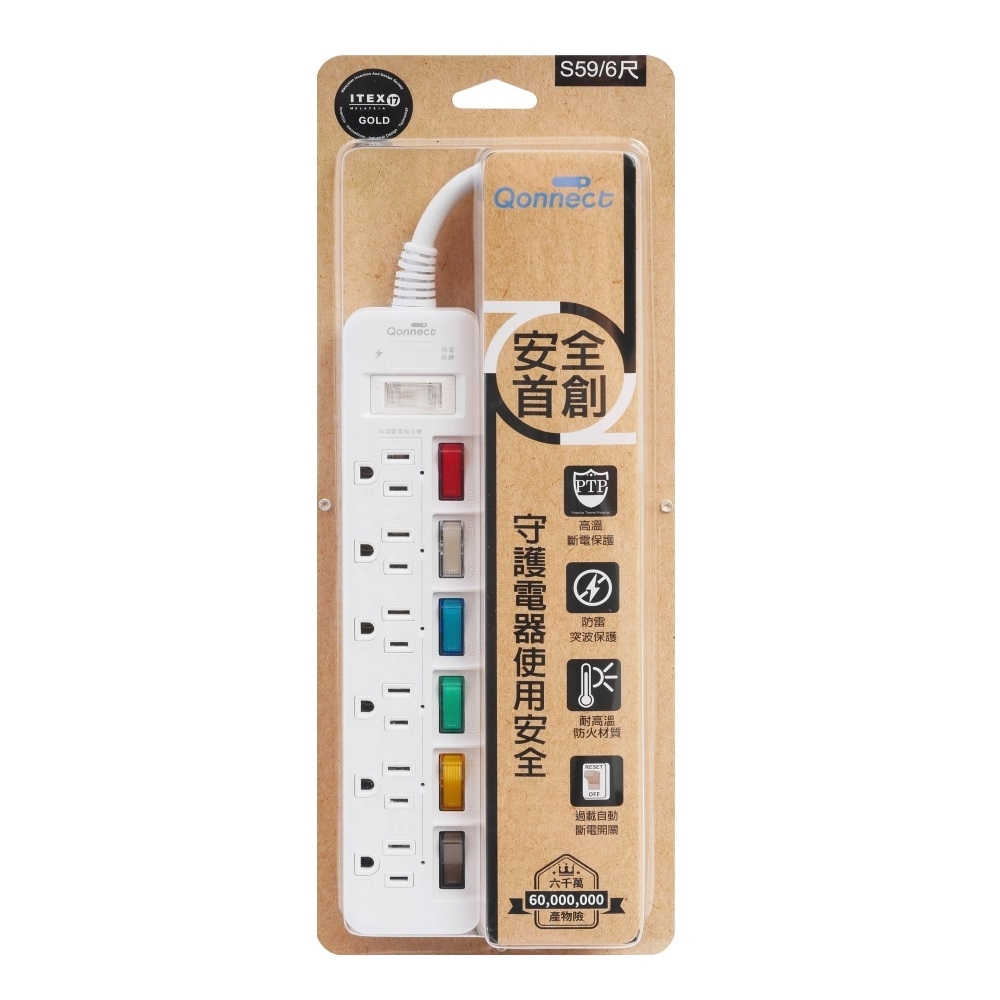socket: (337, 153, 482, 938)
